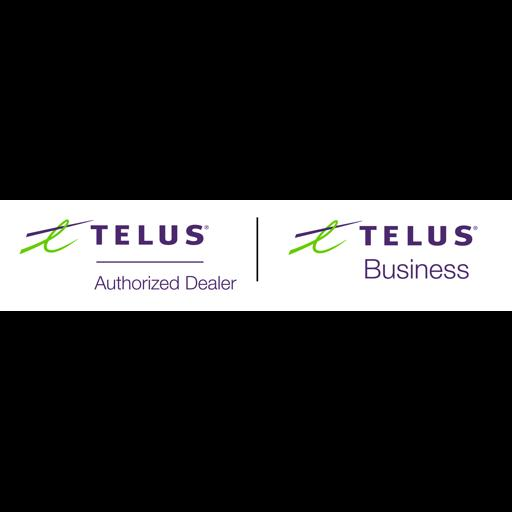Telus: (0, 200, 512, 311)
